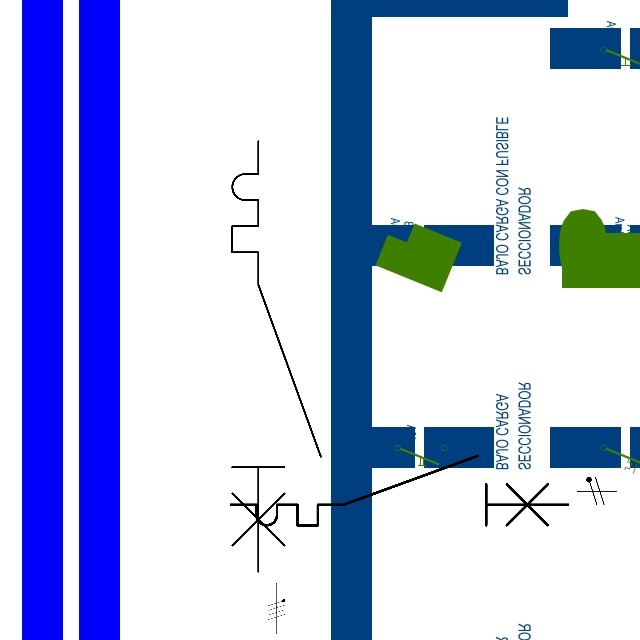interruptor_termomagnetico: (221, 130, 332, 582), (222, 447, 577, 534)
